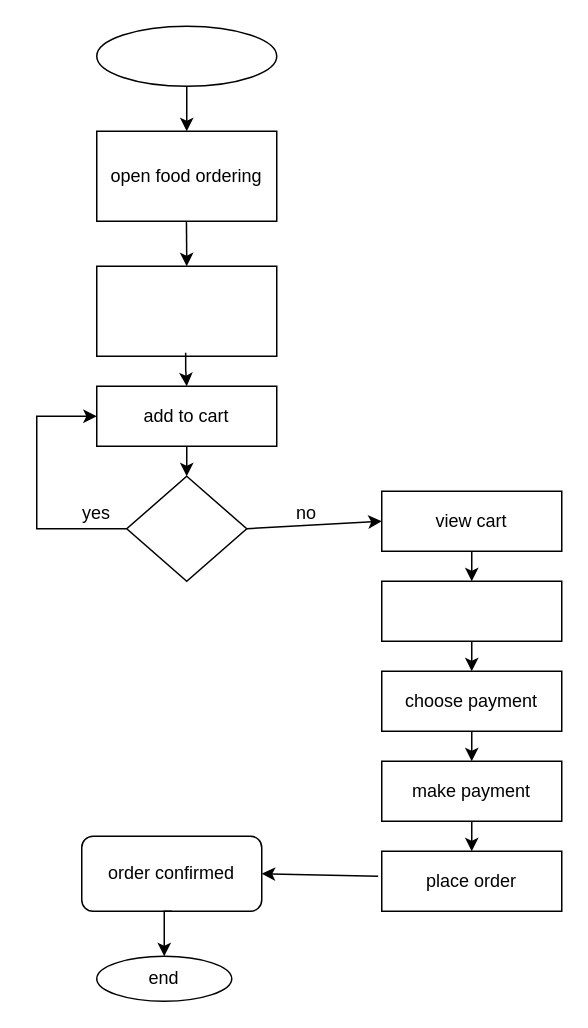
Image size: 588x1028. Some labels were removed from this diagram. The shapes that lost their labels are listed below. From the top down, each one's centre as x and y in pixels, then its label:
At (x=186, y=55): "start".
At (x=186, y=310): "choose restaurant and food".
At (x=186, y=528): "add more items?".
At (x=471, y=610): "enter address".
